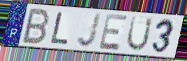3: (150, 17, 177, 56)
B: (20, 7, 51, 45)
E: (98, 13, 130, 52)
J: (76, 13, 103, 49)
L: (49, 11, 71, 46)
U: (125, 15, 155, 53)
